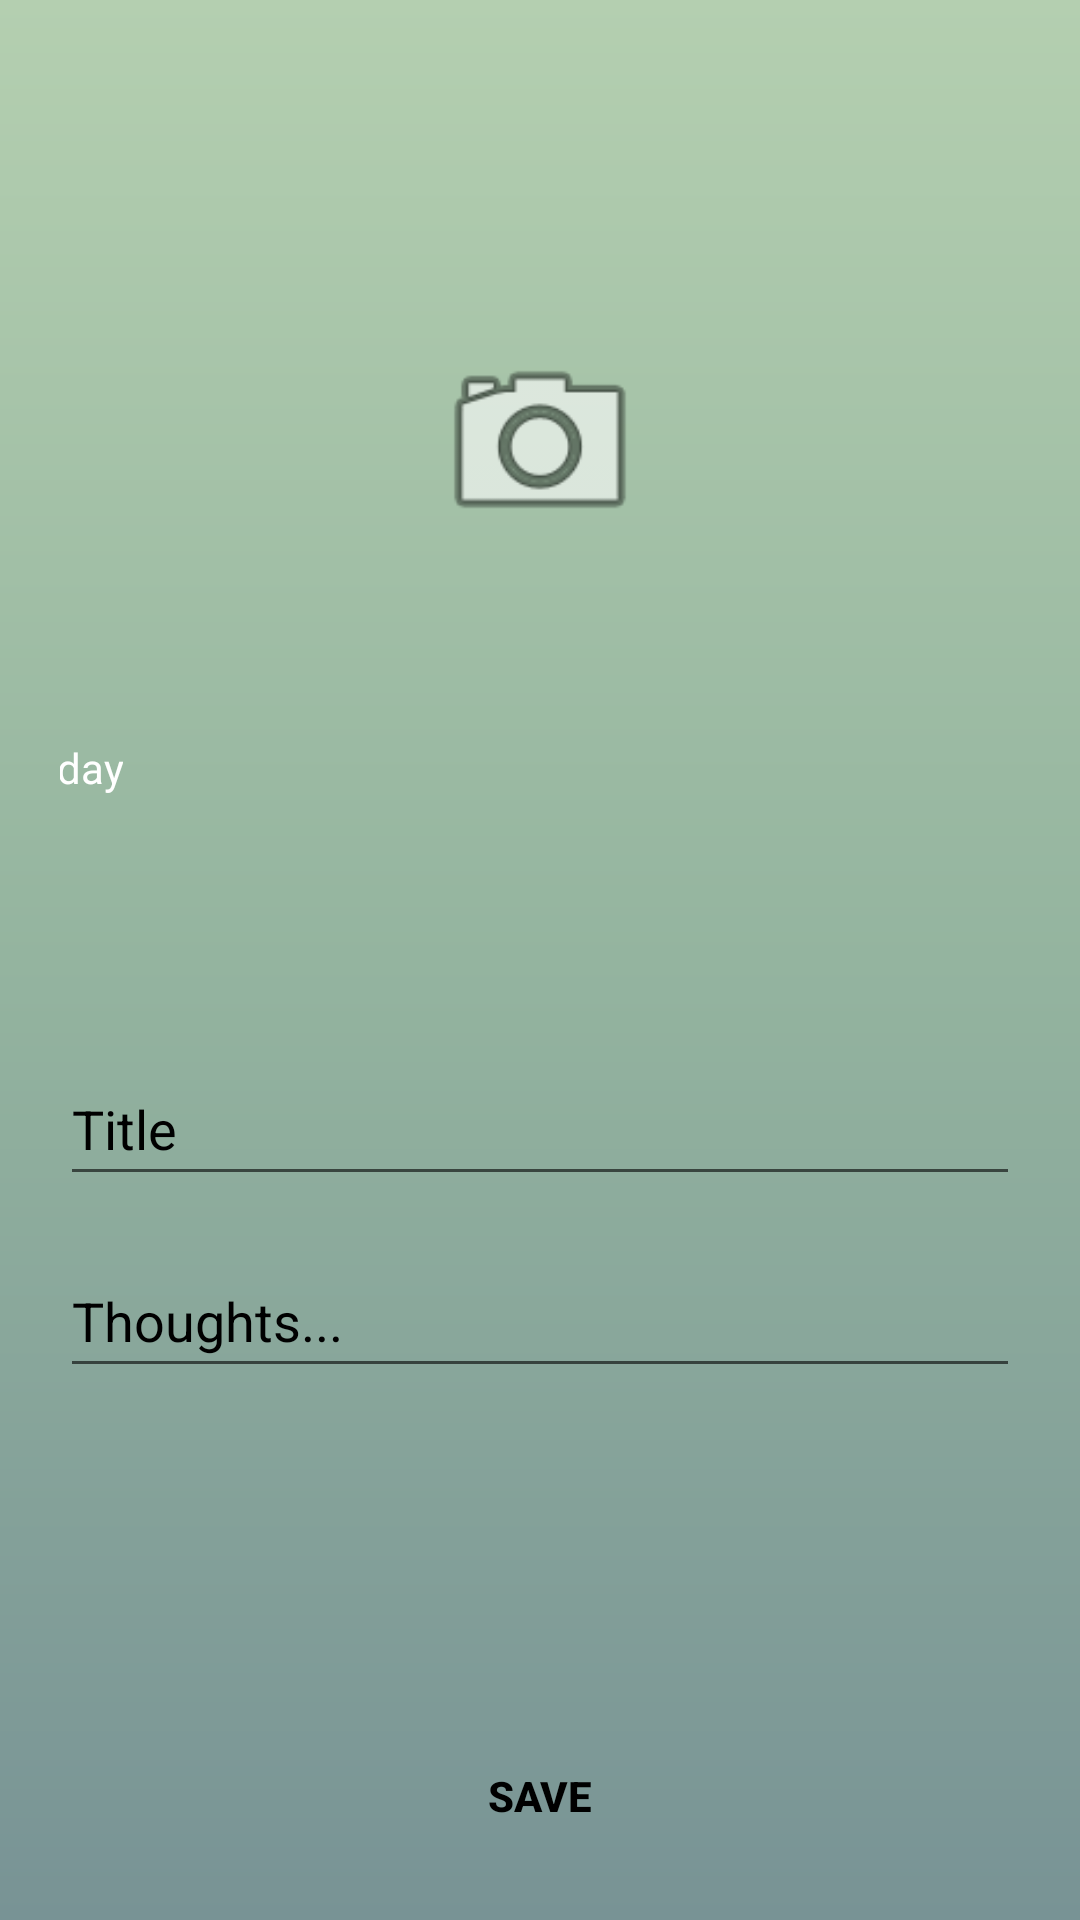

Named icons in this screenshot (1080 x 1920) and their bounding boxes, (x1, y1, x2, y2):
add image button: (454, 371, 626, 508)
